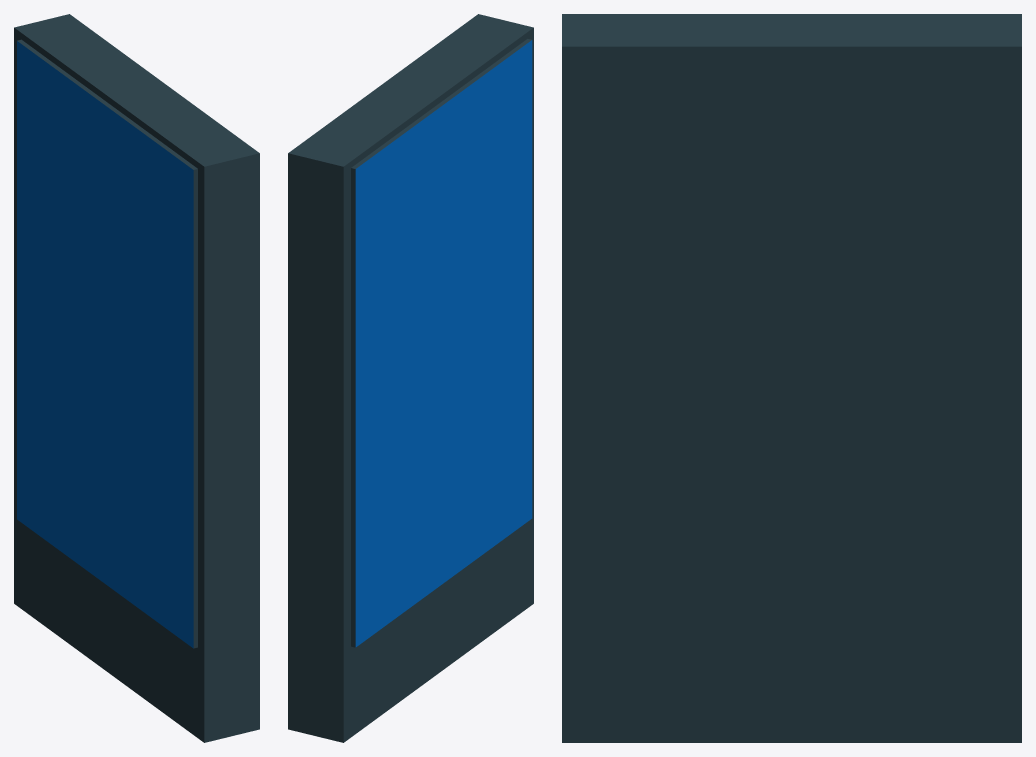
The model's file is Celular.obj.
3 views of the same model, side by side, from view 1: azimuth 30°, elevation 25°; view 2: azimuth 150°, elevation 25°; view 3: azimuth 270°, elevation 25° (orthographic). The views are drawn at different scales.
Visible parts, largest first — view 1: Cube; view 2: Cube; view 3: Cube.
Boxes of the visible parts, bbox=[...] form: Cube: bbox=[14, 14, 259, 742]; Cube: bbox=[288, 14, 533, 742]; Cube: bbox=[562, 14, 1021, 742].
Size of the model in its own units: 0.4832 by 4.43 by 2.65.
